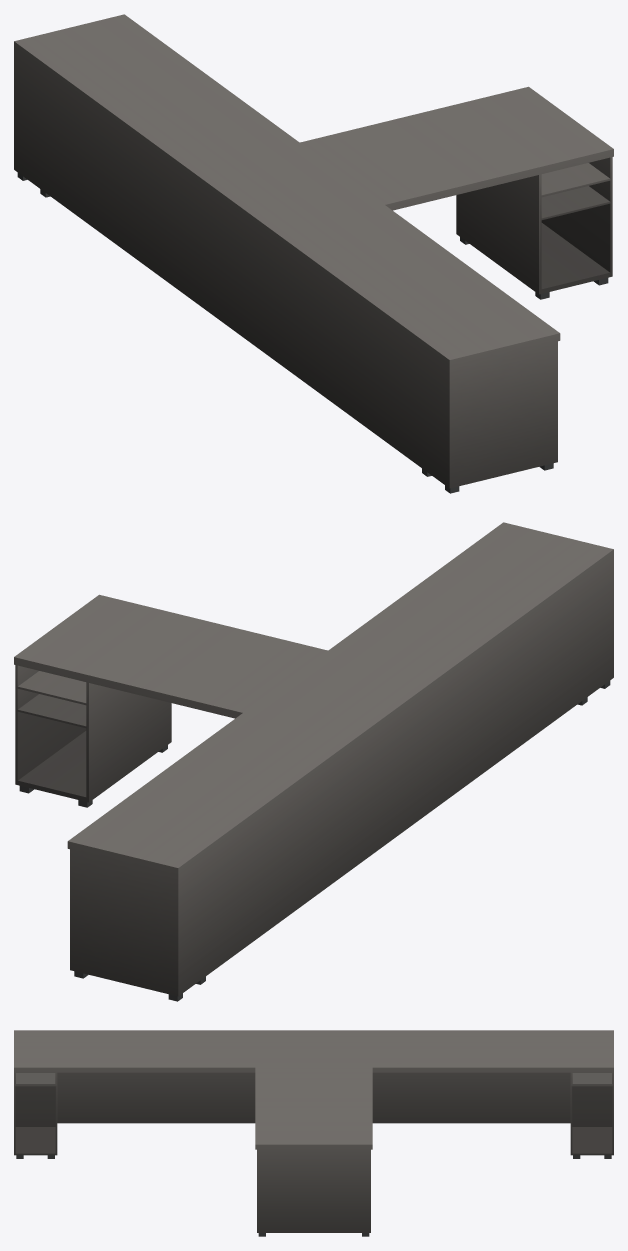
Rendered from Desk_Corner_Booth_D_Open_Gray.fbx.
3 renders of one model, top to bottom at view 1: azimuth 30°, elevation 25°; view 2: azimuth 150°, elevation 25°; view 3: azimuth 270°, elevation 25°, orthographic. The views are drawn at different scales.
Parts seen in each view (by area): view 1: Desk_Corner_Booth_D_Open_Gray; view 2: Desk_Corner_Booth_D_Open_Gray; view 3: Desk_Corner_Booth_D_Open_Gray.
Boxes of the visible parts, x1=… form: Desk_Corner_Booth_D_Open_Gray: x1=14, y1=14, x2=613, y2=493; Desk_Corner_Booth_D_Open_Gray: x1=14, y1=522, x2=613, y2=1001; Desk_Corner_Booth_D_Open_Gray: x1=14, y1=1030, x2=613, y2=1236.
Size of the model in its own units: 184 by 70 by 409.
